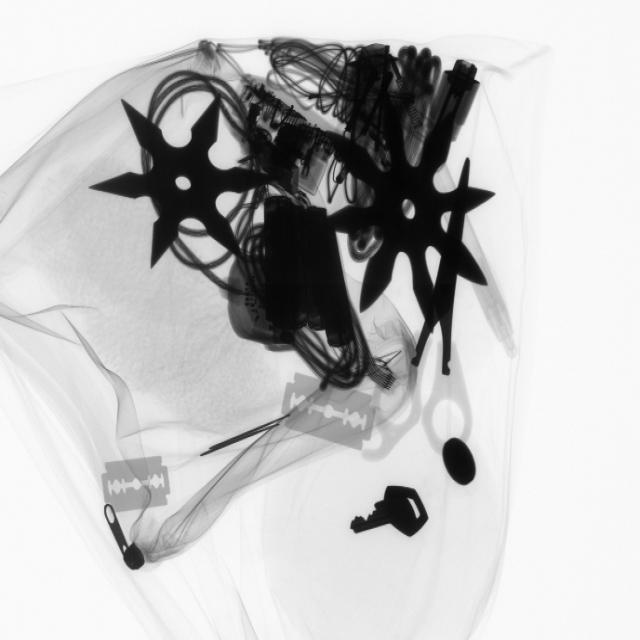BLADE: (276, 369, 383, 462), (97, 448, 181, 520)
SHURIKEN: (332, 88, 496, 352), (99, 96, 277, 278)
